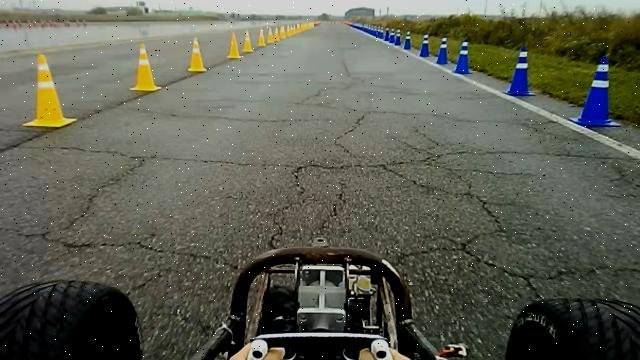blue cone: (570, 54, 622, 127), (506, 45, 536, 96), (453, 38, 473, 74), (436, 36, 449, 64), (419, 33, 430, 57), (403, 30, 412, 50), (394, 28, 402, 45), (389, 28, 397, 44)
yellow cone: (23, 53, 77, 128), (130, 42, 162, 92), (188, 36, 208, 73), (227, 31, 241, 59), (242, 28, 254, 52), (257, 27, 267, 47), (266, 26, 275, 44), (278, 25, 286, 40)
